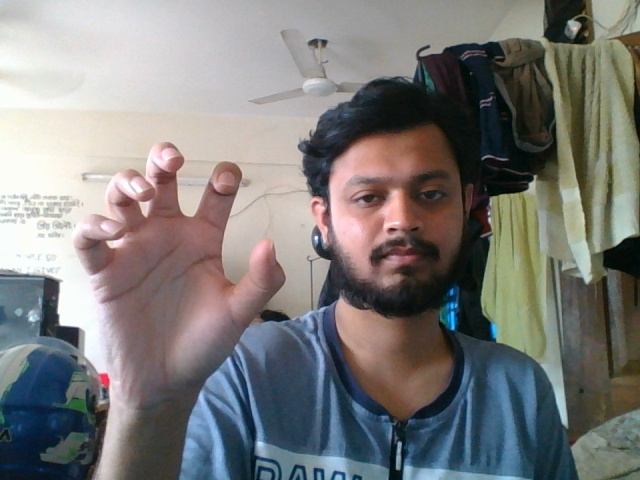ja: (63, 139, 288, 443)
